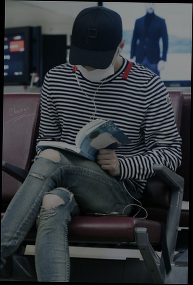mask_weared_incorrect: (77, 54, 117, 84)
